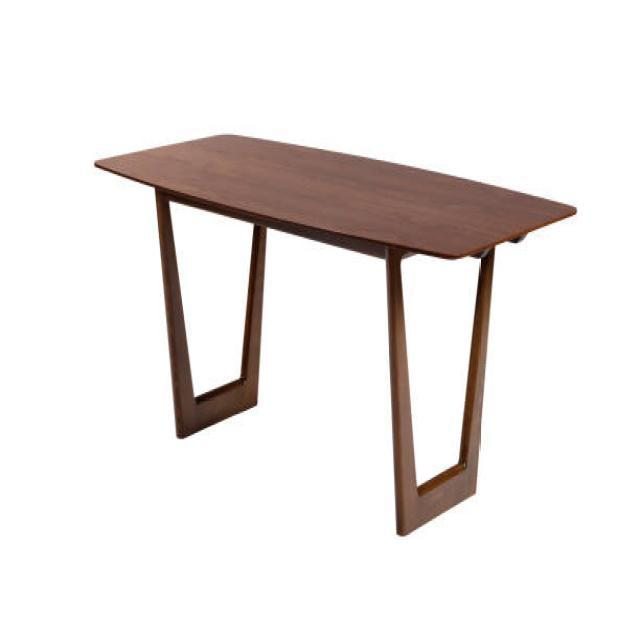table: (93, 130, 577, 537)
